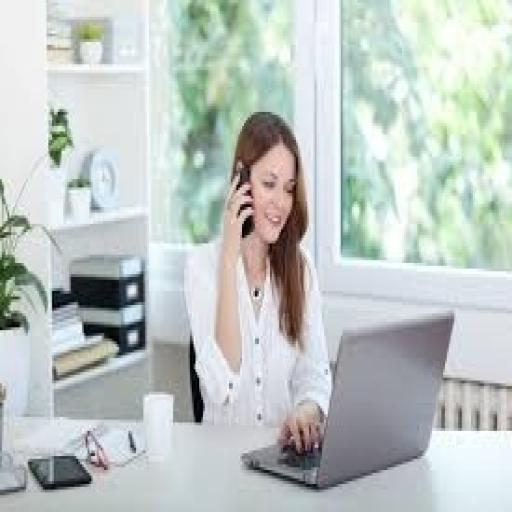calling: (190, 106, 333, 454)
